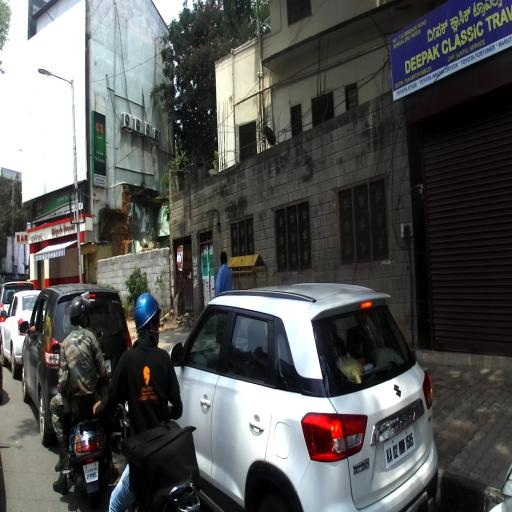street_light_0: (38, 68, 75, 85)
